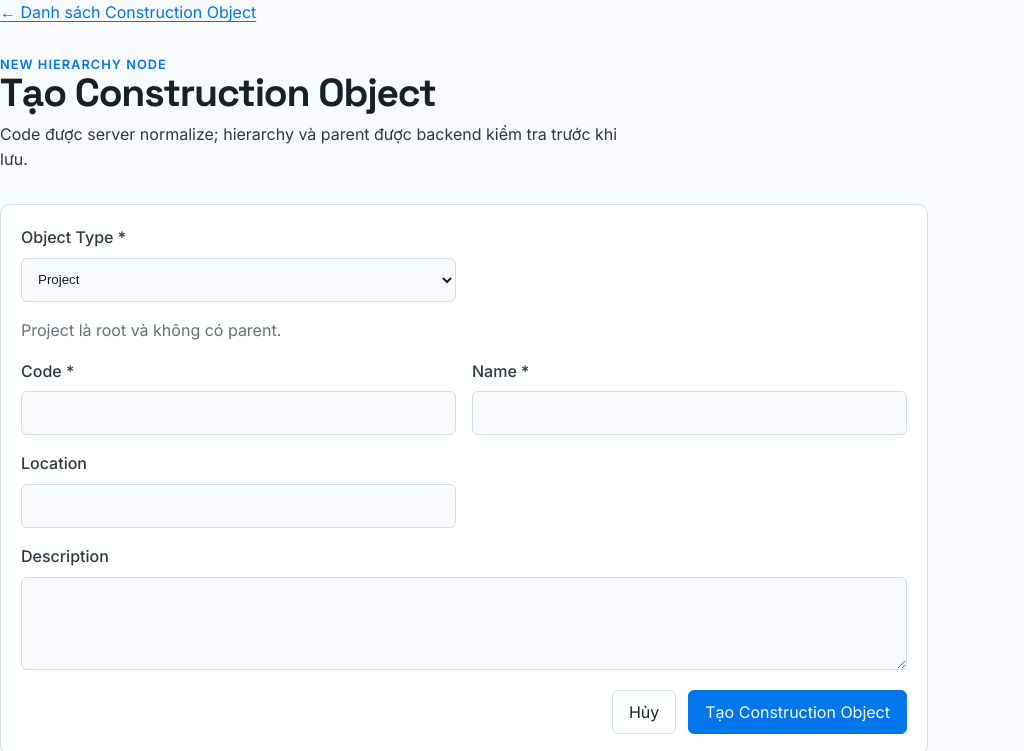
Test case: Construction Object create › keeps input and explains backend duplicate/parent conflicts
Type "DEMO-CO-03" into the field labelled "Code *". click: [238, 413]
box: [21, 391, 456, 435]
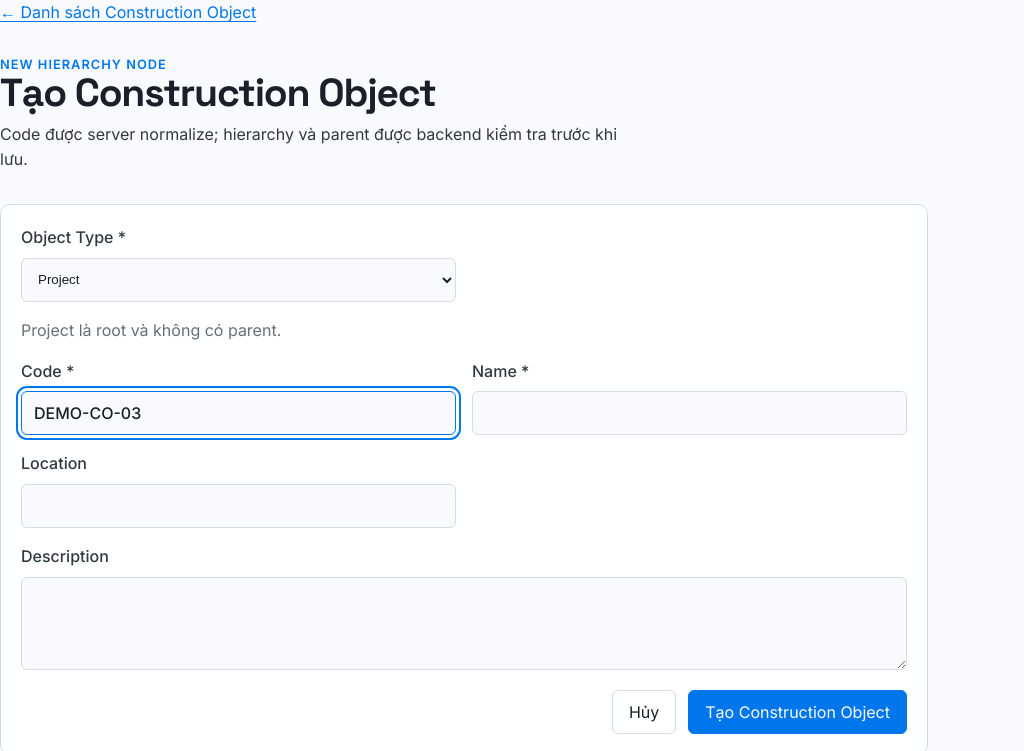
Type "Keep me" into the field labelled "Name *". click: [690, 413]
box: [472, 391, 907, 435]
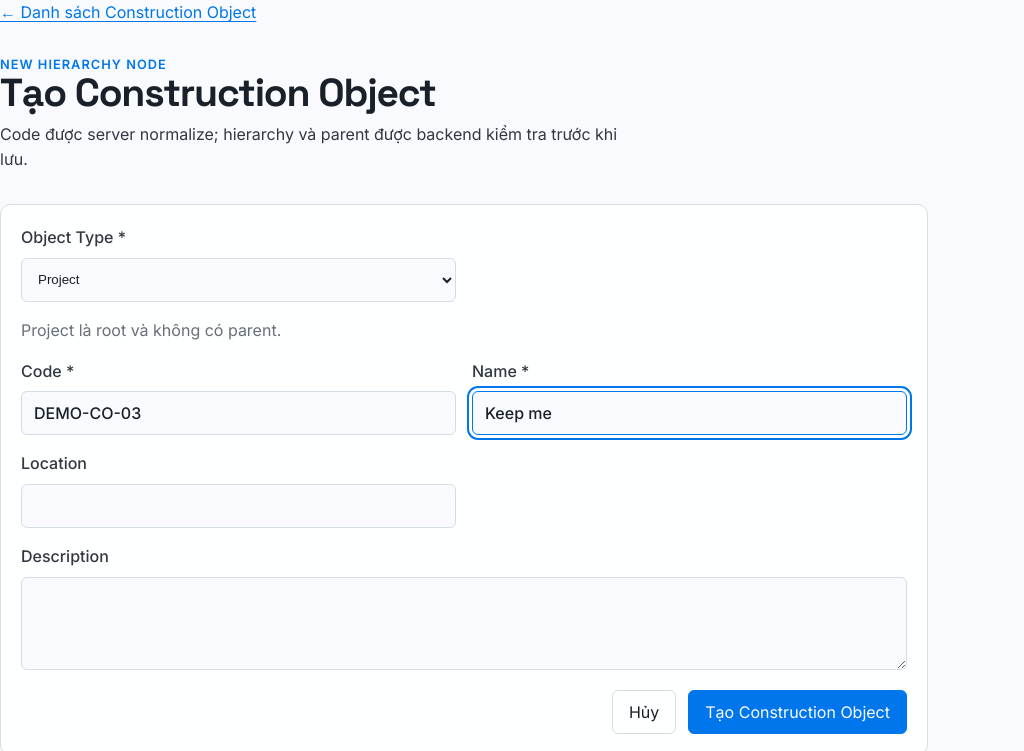
Click the button "Tạo Construction Object". click: [798, 712]
box: [688, 690, 907, 734]
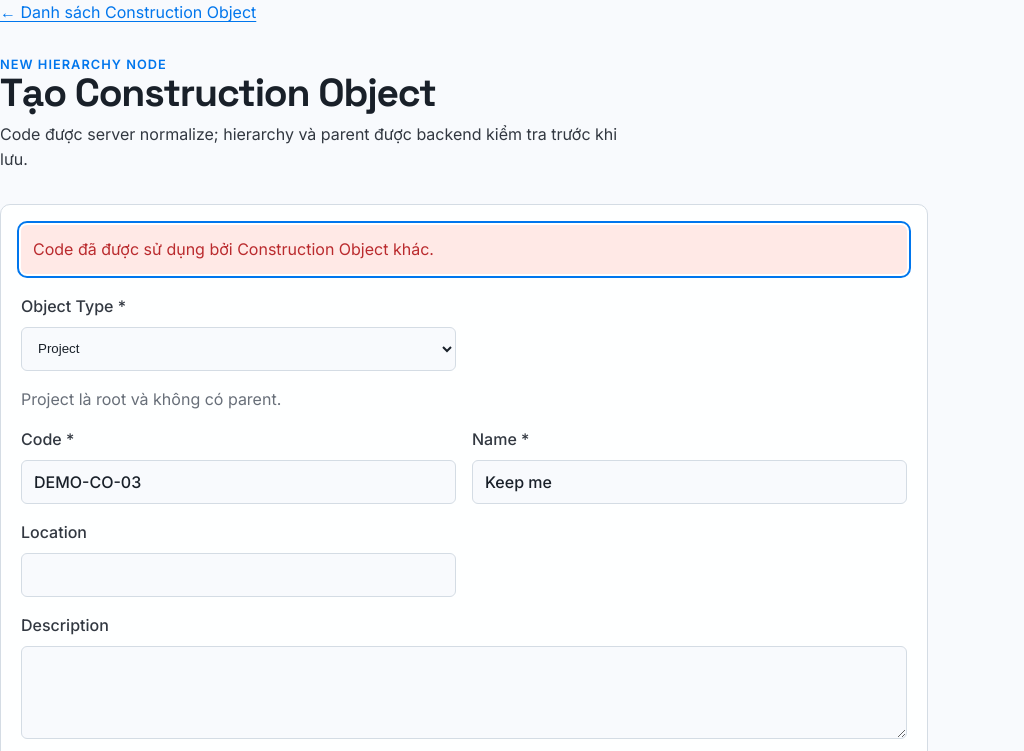
Expected: the message shows "Code đã được sử dụng", [33, 239, 434, 259]
Select "Building" in the dropdown labelled "Object Type *". click: [238, 348]
box: [21, 326, 456, 370]
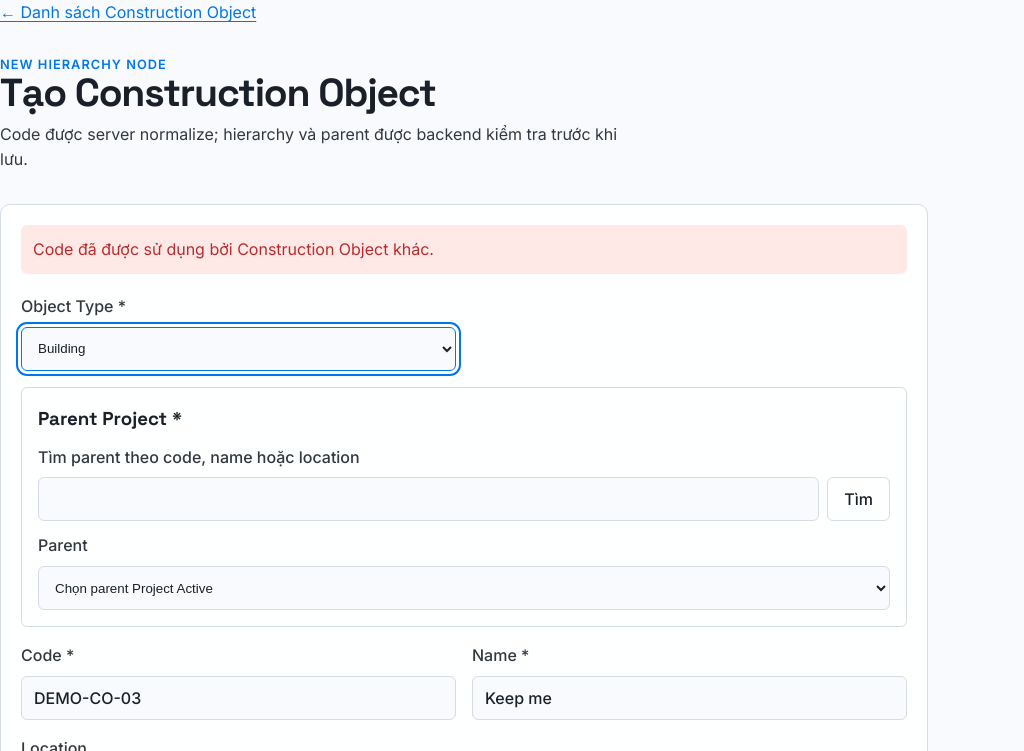
Select "DEMO-CO-01 — Demo Project" in the dropdown labelled "Parent". click: [464, 588]
box: [38, 566, 890, 610]
(page scrolled)
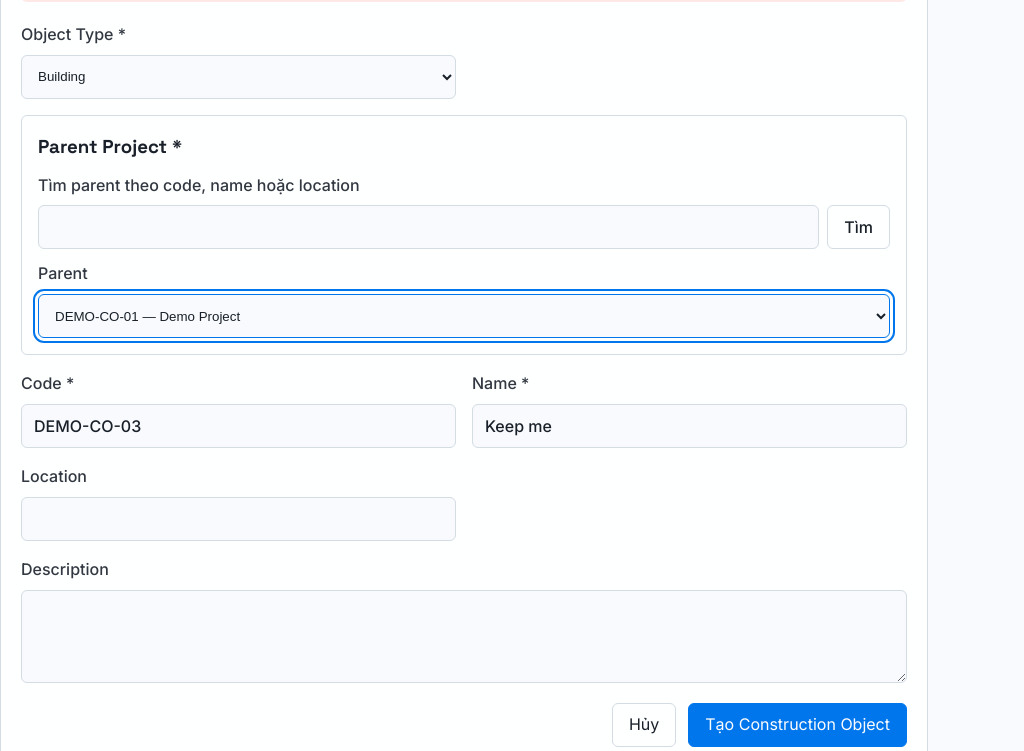
Click the button "Tạo Construction Object". click: [798, 724]
box: [688, 702, 907, 746]
(page scrolled)
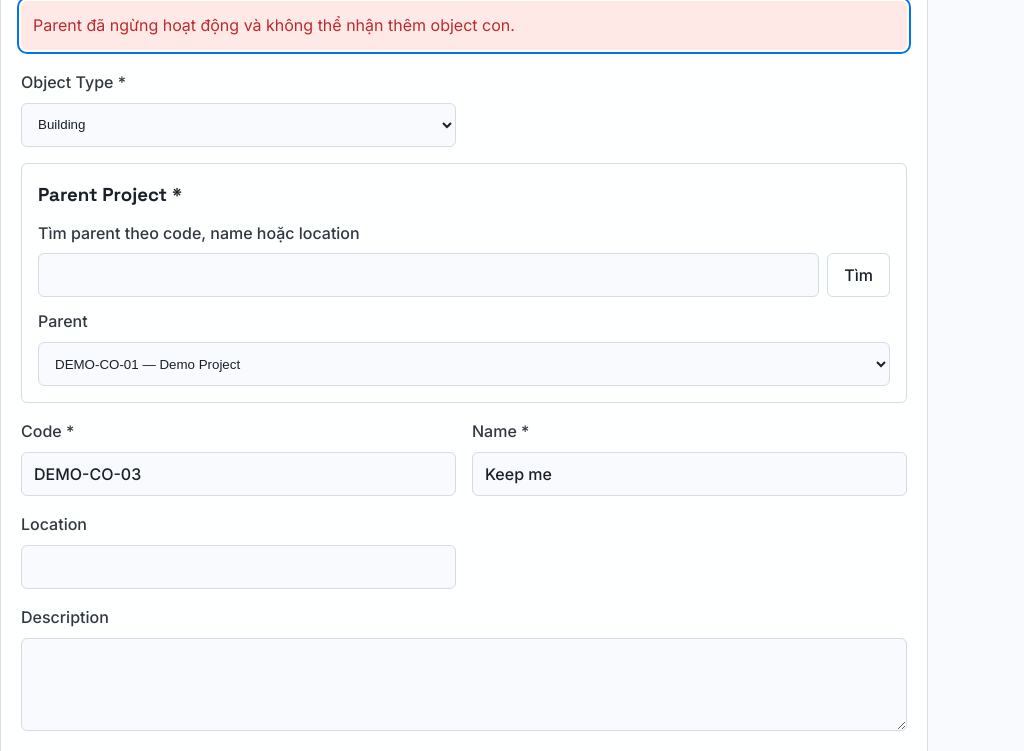
Expected: the message shows "Parent đã ngừng hoạt động", [33, 15, 515, 35]
